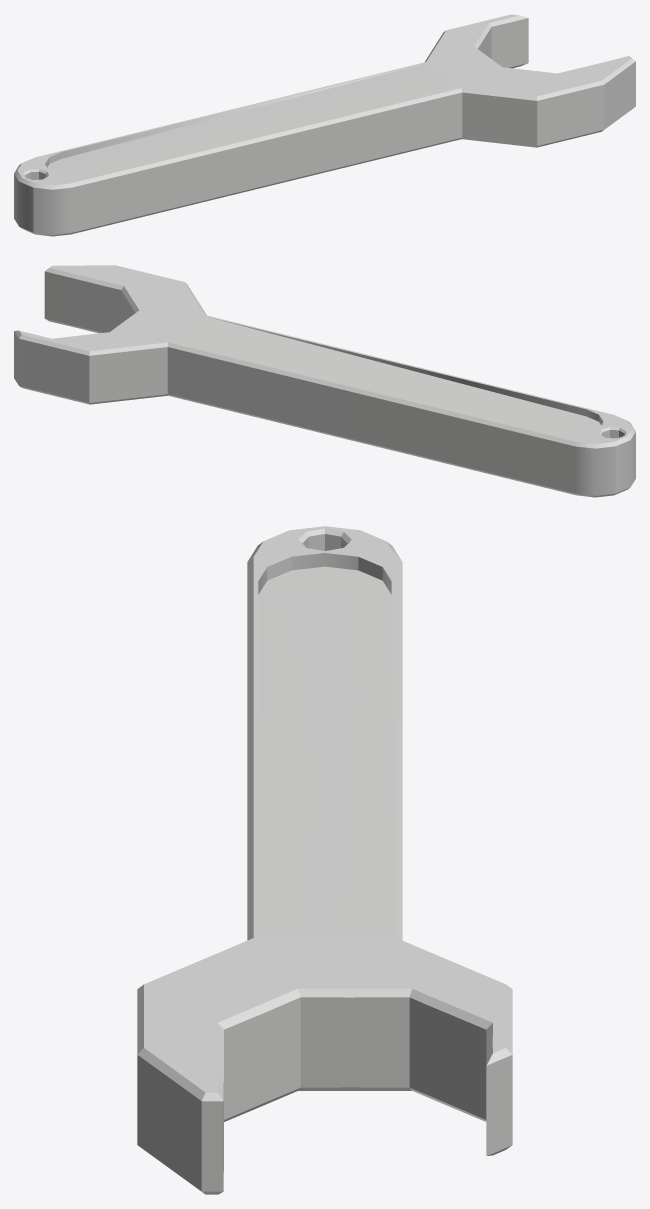
Rendered from ST_spanner.fbx.
3 views of the same model, one above another, from view 1: azimuth 30°, elevation 25°; view 2: azimuth 150°, elevation 25°; view 3: azimuth 270°, elevation 25° (orthographic). The views are drawn at different scales.
Parts seen in each view (by area): view 1: Spanner01_obj; view 2: Spanner01_obj; view 3: Spanner01_obj.
Part boxes in pixels (<box>): Spanner01_obj: <box>14,14,635,236</box>; Spanner01_obj: <box>14,265,635,497</box>; Spanner01_obj: <box>137,526,512,1194</box>.
Size of the model in its own units: 6 by 0.5 by 1.66.
1 material, 1 textured.
